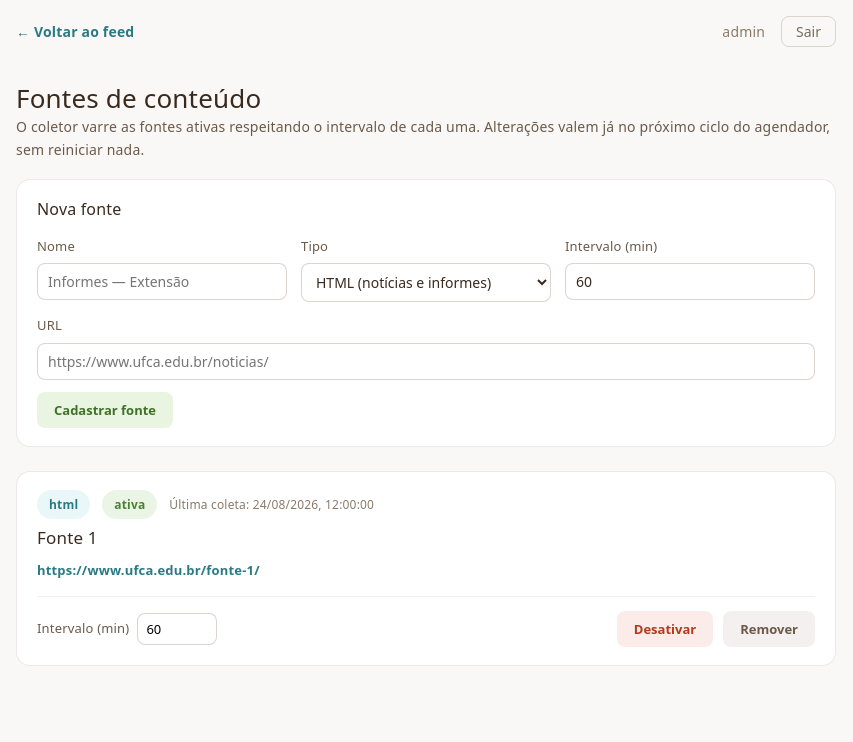
Fontes — edição › desativa a fonte e explica o efeito na próxima coleta
This screenshot has width=853, height=742.
Expected: the heading "Fonte 1" is shown, [37,526,98,549]
Click the button "Desativar": coordinates (665, 629) [617,611,713,647]
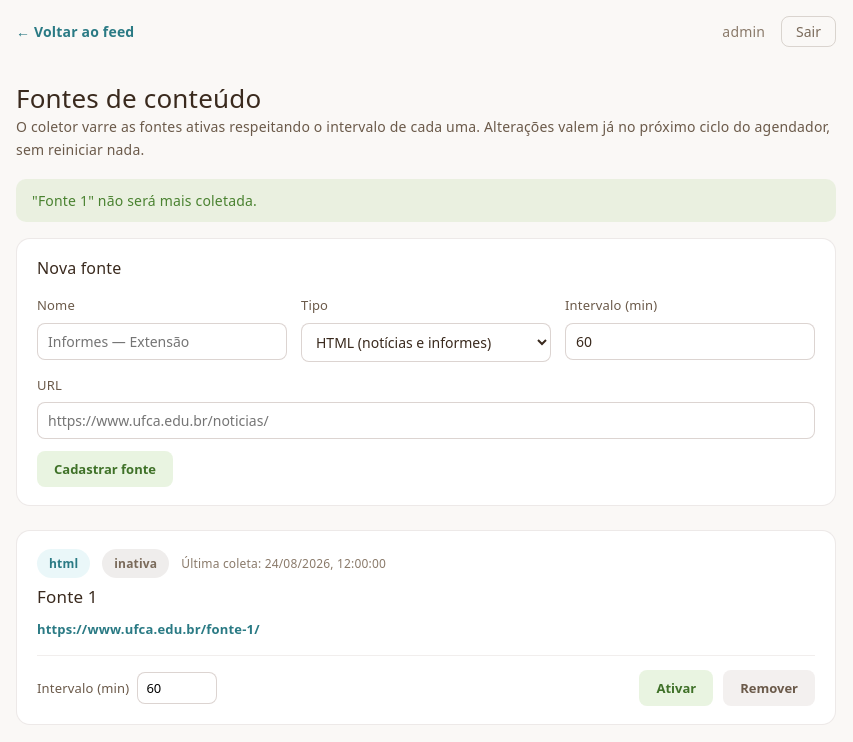
Result: the message shows "não será mais coletada" at [32,191,257,210]
